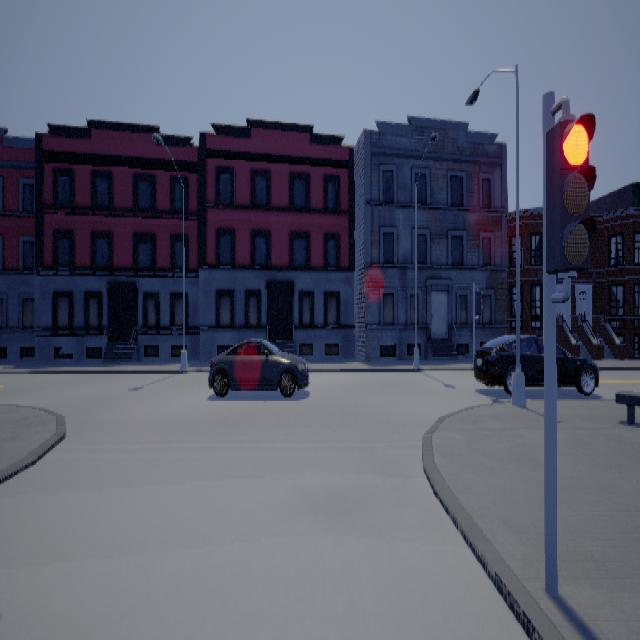red_light: (545, 95, 596, 302)
vehicle: (472, 327, 601, 394), (207, 337, 309, 396)
